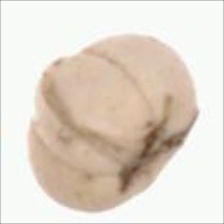L5: (34, 50, 151, 151), (105, 102, 203, 204)
L6: (25, 33, 203, 212)
